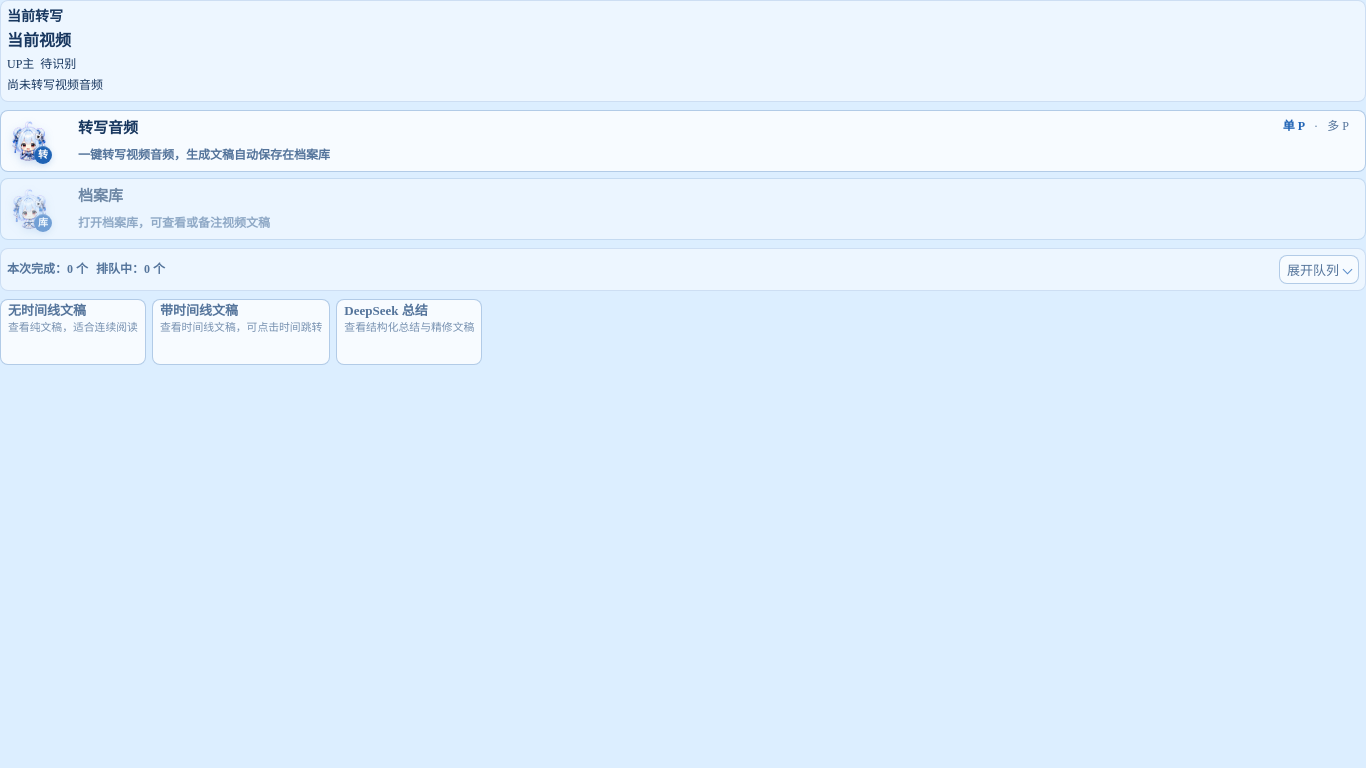
Test case: VideoNotesPanel › keeps single-P mode by default and only reads multipart data after selecting multi-P and clicking the card
What coordinates should you click on to do the following:
click the button "多 P"
I would click on:
 (1338, 126)
Its box is [1320,114,1356,138].
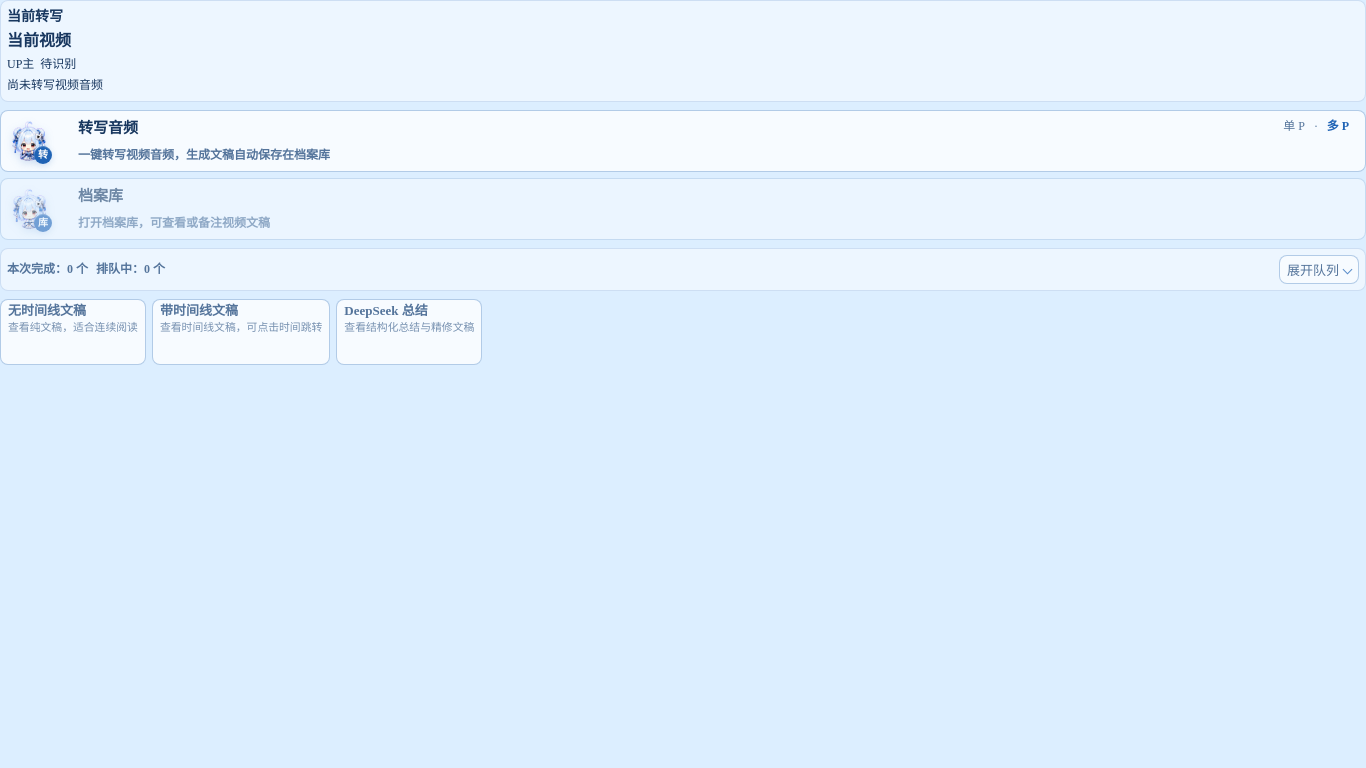
Expected: the button "单 P" is not pressed, [1276,114,1312,138]
Expected: the button "多 P" is pressed, [1320,114,1356,138]
What coordinates should you click on to do the following:
click the button "转 转写音频 一键转写视频音频，生成文稿自动保存在档案库"
I would click on:
 (29, 141)
Its box is [0,110,1365,172].
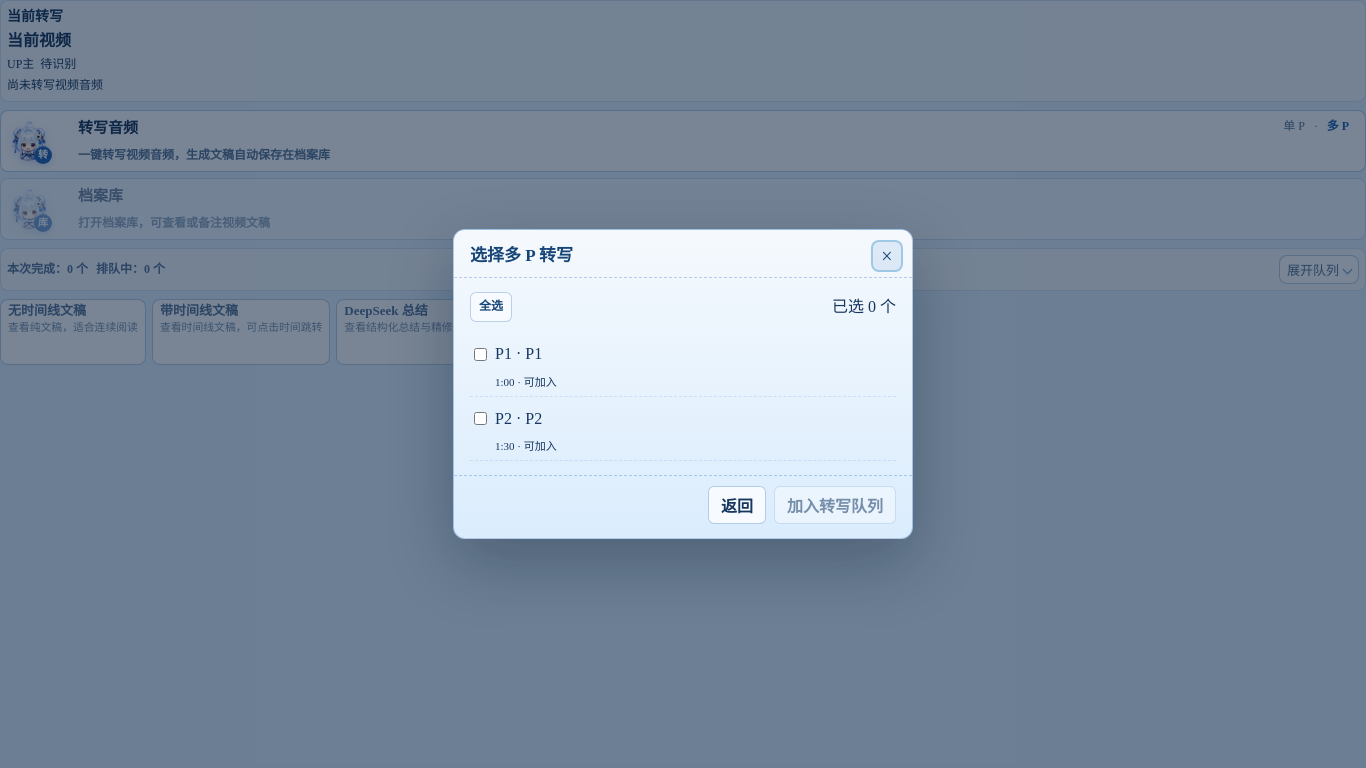
Expected: the dialog "选择多 P 转写" is shown, [453,229,913,539]
Expected: the number of checkboxes is 2, [474,348,487,361]; [474,412,487,426]
Expected: the button "加入转写队列" is disabled, [774,486,896,524]
